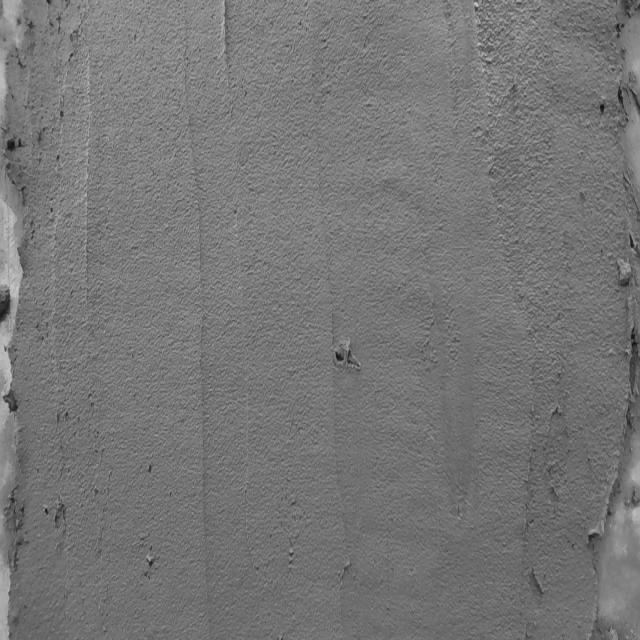trowels marks: (195, 183, 210, 623), (220, 1, 233, 83)
